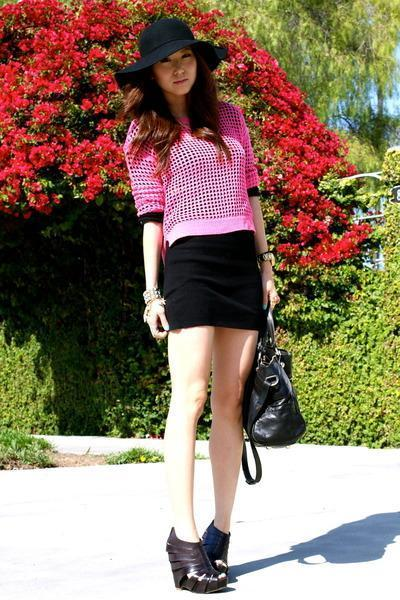bag: (238, 348, 319, 484)
hat: (108, 12, 227, 93)
jacket: (123, 108, 266, 247)
shoe: (166, 520, 230, 593)
skirt: (156, 228, 281, 347)
